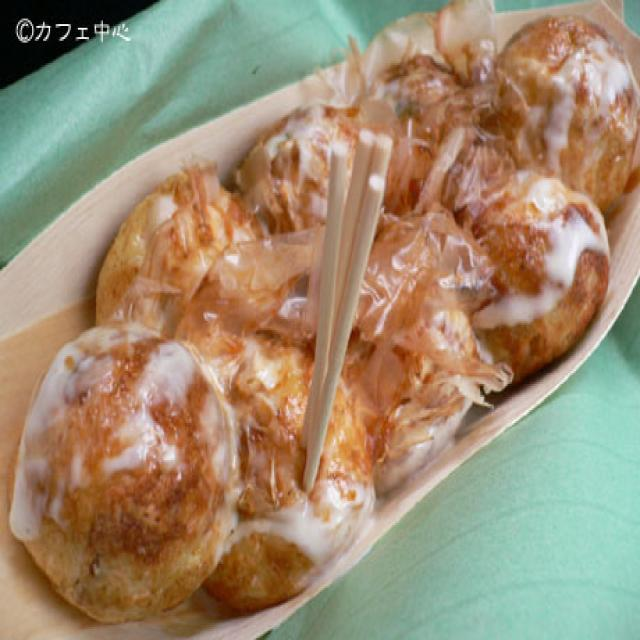炸货点心: (0, 54, 640, 640)
